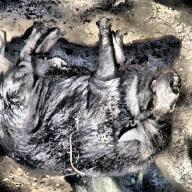boar: (0, 15, 181, 178)
